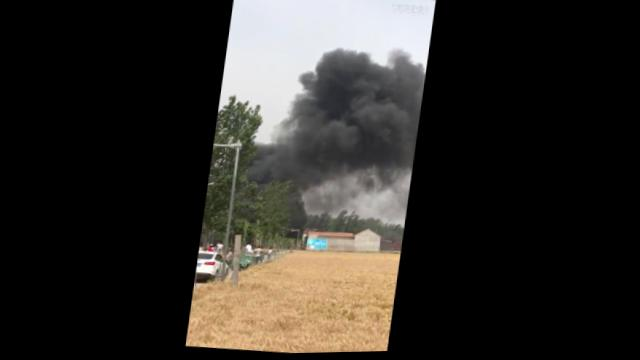smoke: (280, 39, 430, 152), (250, 139, 416, 225)
